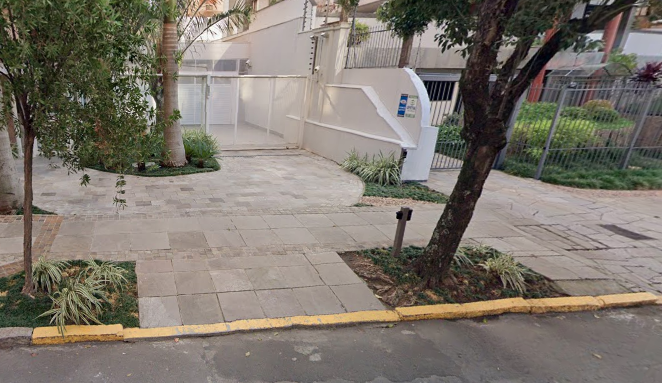vag100: (138, 275, 388, 361)
